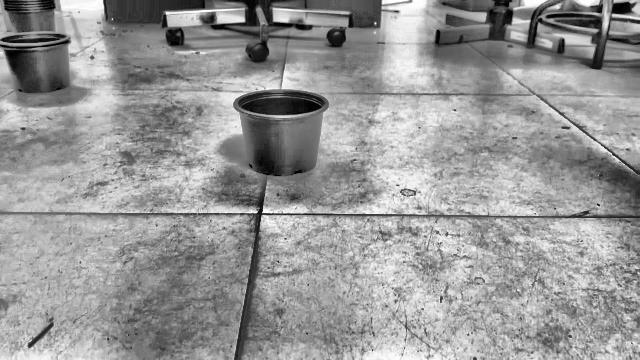pot: (234, 89, 328, 175), (0, 31, 71, 93), (3, 0, 55, 31), (7, 9, 55, 33), (7, 9, 55, 31)
